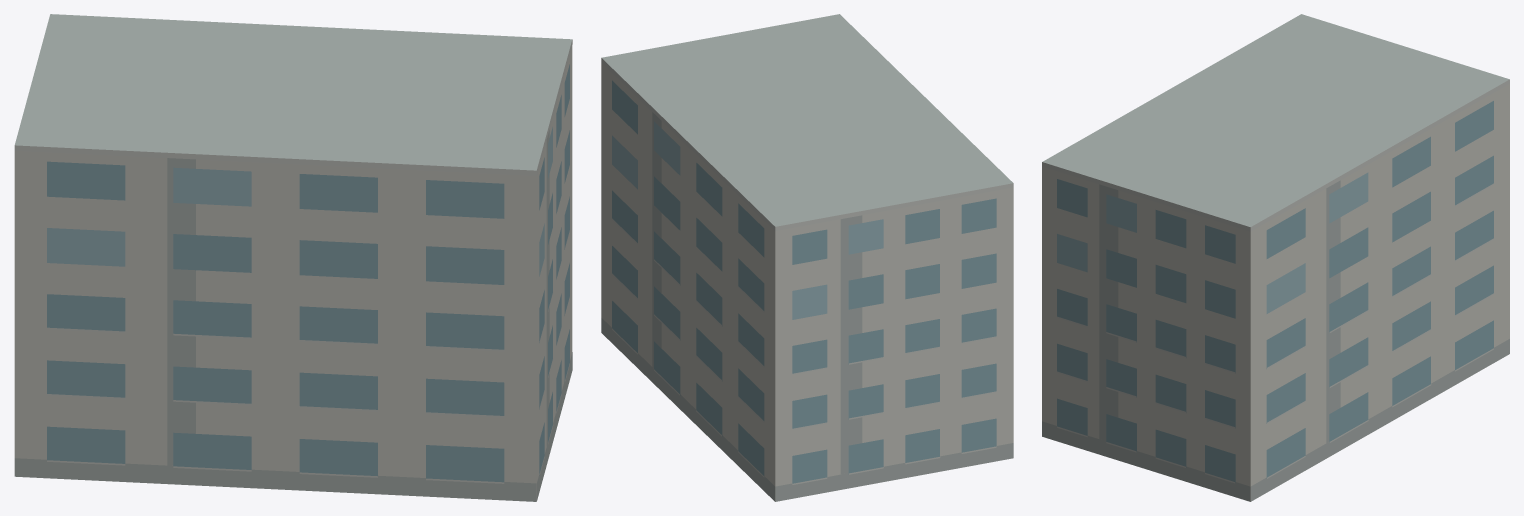
The model's file is residential-04f9dbae-9765-4828-be7f-a11a07444fc2.glb.
3 renders of one model, left to right at view 1: azimuth 30°, elevation 25°; view 2: azimuth 150°, elevation 25°; view 3: azimuth 270°, elevation 25°, orthographic. The views are drawn at different scales.
Parts seen in each view (by area): view 1: residential-04f9dbae-9765-4828-be7f-a11a07444fc2.tmp; view 2: residential-04f9dbae-9765-4828-be7f-a11a07444fc2.tmp; view 3: residential-04f9dbae-9765-4828-be7f-a11a07444fc2.tmp.
Boxes of the visible parts, <box> form: residential-04f9dbae-9765-4828-be7f-a11a07444fc2.tmp: <box>14,14,572,501</box>; residential-04f9dbae-9765-4828-be7f-a11a07444fc2.tmp: <box>601,14,1013,501</box>; residential-04f9dbae-9765-4828-be7f-a11a07444fc2.tmp: <box>1042,14,1509,501</box>.
Bounding box in the file's own units: 25.4 × 15.25 × 23.54.
